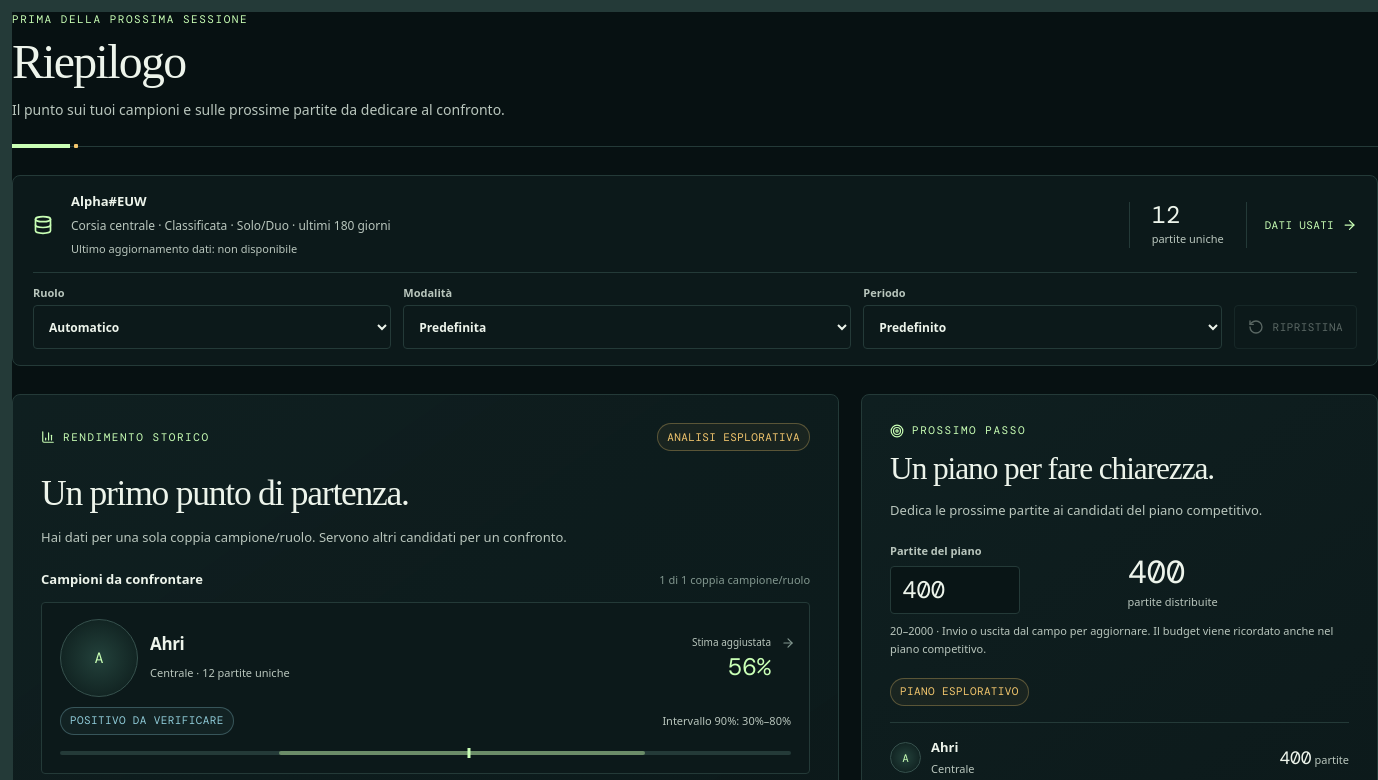
Test: Filtri condivisi del Riepilogo › nasconde entrambi i vecchi risultati durante il cambio e ignora le risposte tardive
expect the list named "Campioni da confrontare" is shown: met, box [41, 602, 810, 774]
Select "Tutti i ruoli" in the dropdown labelled "Ruolo". click: (212, 328)
box: [33, 306, 391, 350]
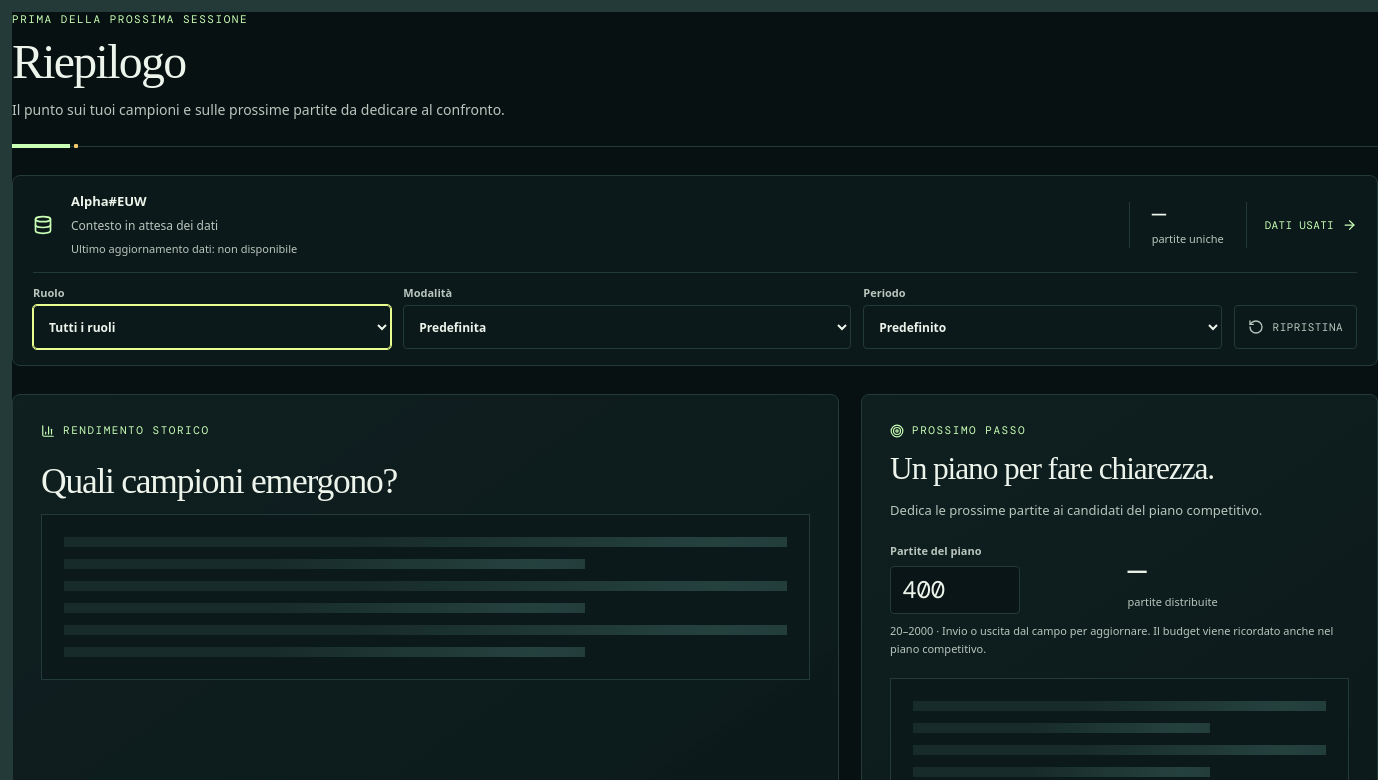
expect the link "Ahri" is gone: met
expect the message named "Caricamento del riepilogo dei campioni" is shown: met, box [41, 514, 810, 680]
Select "Corsia superiore" in the dropdown labelled "Ruolo". click: (212, 328)
box: [33, 306, 391, 350]
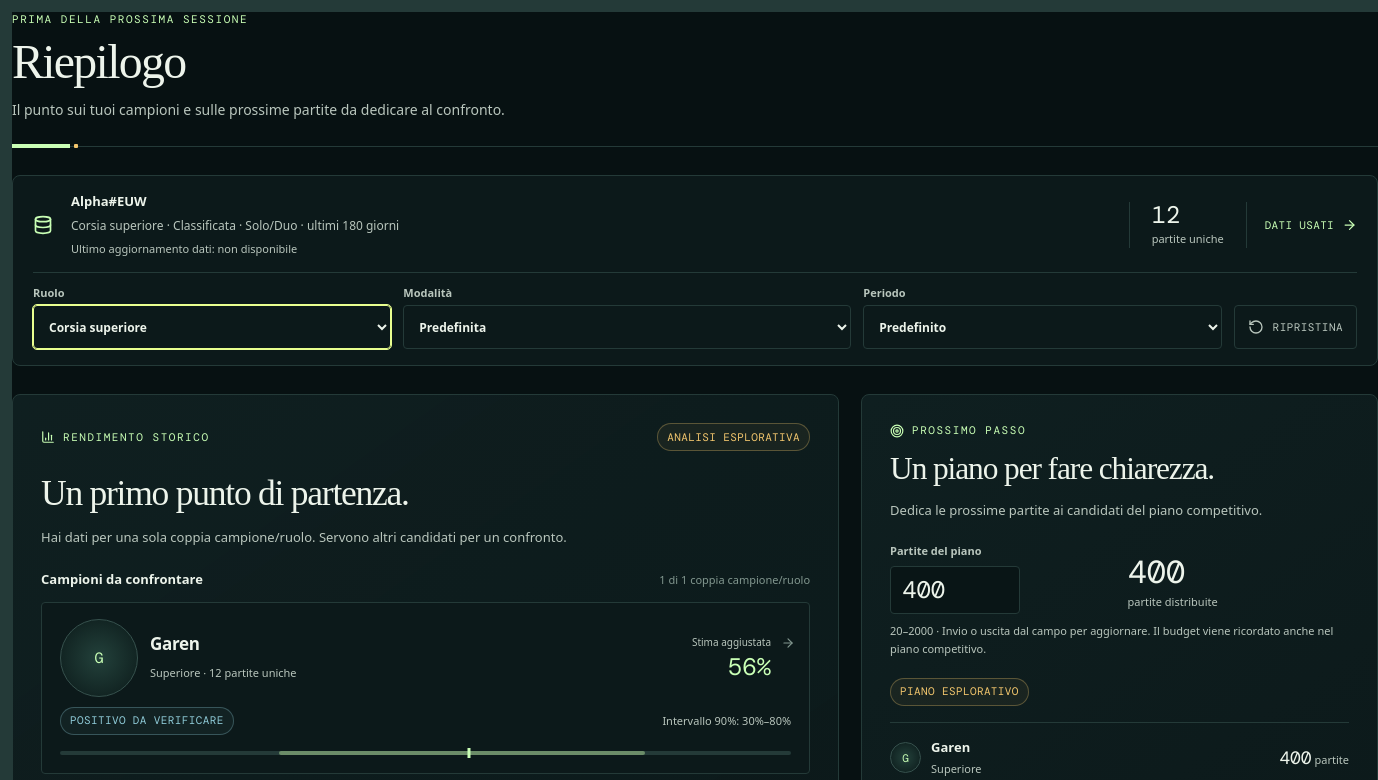
expect the link "Ahri" is not shown: met
expect the link with aria-label "Apri la scheda di Garen, Corsia superiore" is shown: met, box [150, 632, 200, 655]
expect the text "Garen" is shown: met, box [931, 738, 970, 756]
